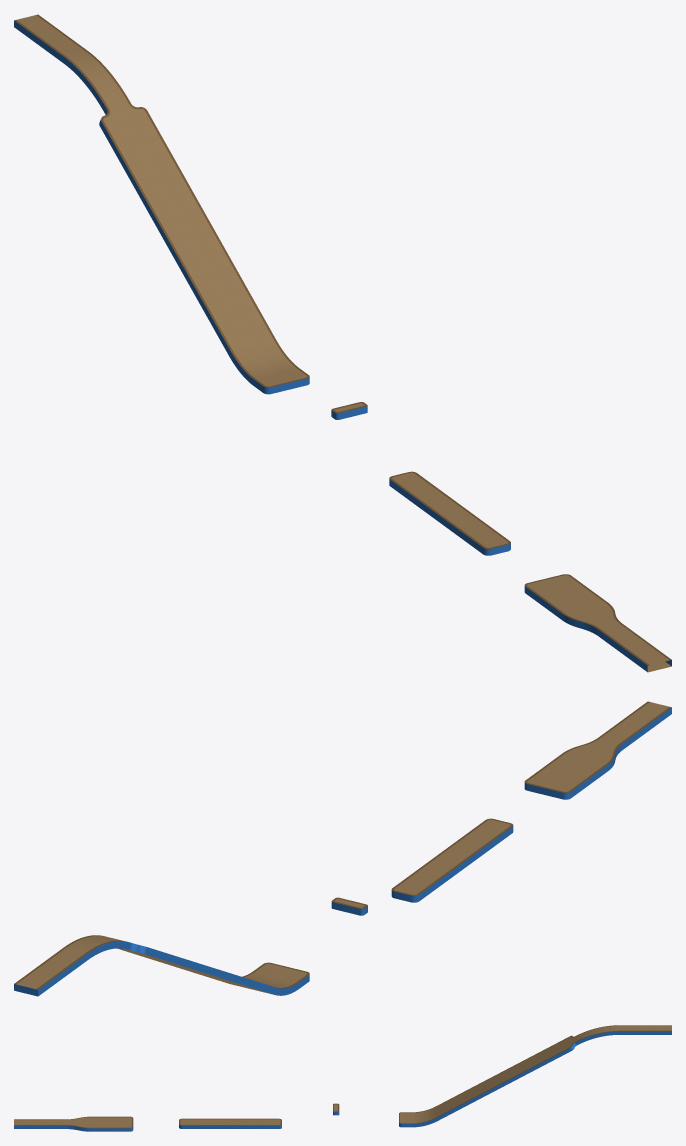
The model's file is ramp-19.FBX.
The picture shows the model from 3 angles, top to bottom: view 1: azimuth 30°, elevation 25°; view 2: azimuth 150°, elevation 25°; view 3: azimuth 270°, elevation 25°; orthographic projection. The views are drawn at different scales.
Visible parts, largest first — view 1: ramp_19; view 2: ramp_19; view 3: ramp_19.
Boxes of the visible parts, <box> form: ramp_19: <box>14,14,671,672</box>; ramp_19: <box>14,701,671,996</box>; ramp_19: <box>14,1025,671,1131</box>.
Bounding box in the file's own units: 850 × 3346 × 20430.
